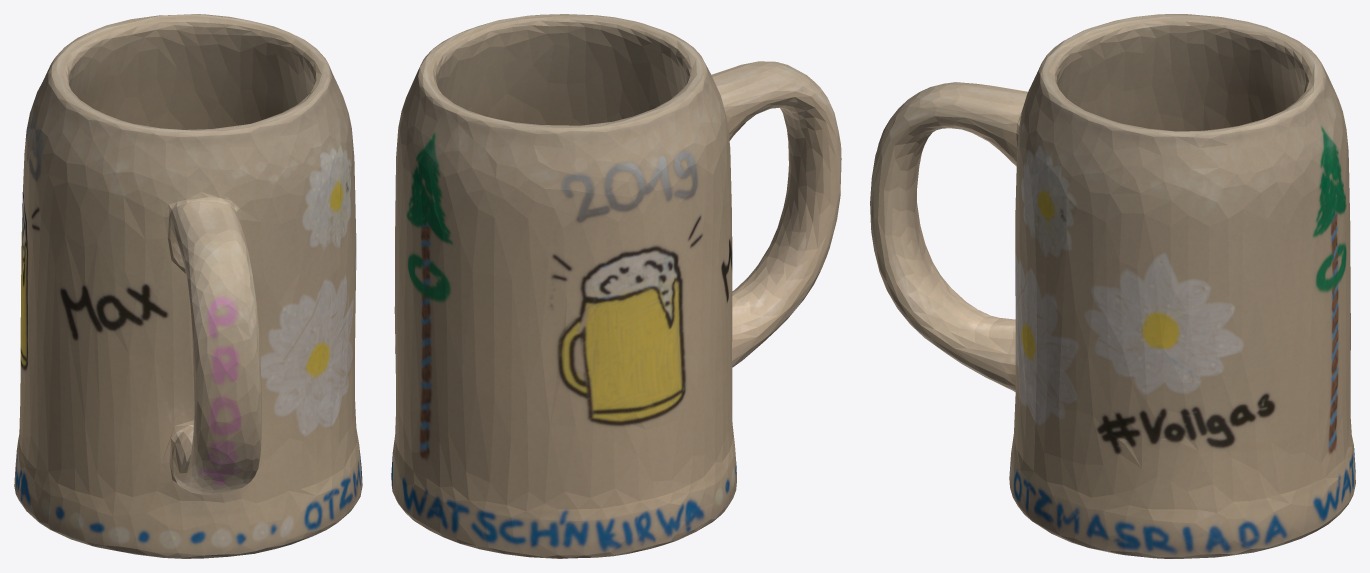
The model's file is DB2B943A-003A-F046-BD4C-97FCBC06D38A_2k.glb.
3 renders of one model, left to right at view 1: azimuth 30°, elevation 25°; view 2: azimuth 150°, elevation 25°; view 3: azimuth 270°, elevation 25°, orthographic.
Parts seen in each view (by area): view 1: Krug Bier_4k_2k; view 2: Krug Bier_4k_2k; view 3: Krug Bier_4k_2k.
Boxes of the visible parts, x1,y1,x2,y2 form: Krug Bier_4k_2k: (14,14,362,558); Krug Bier_4k_2k: (391,14,841,558); Krug Bier_4k_2k: (870,14,1355,558).
Size of the model in its own units: 0.1004 by 0.1334 by 0.141.
1 material, 1 textured.
